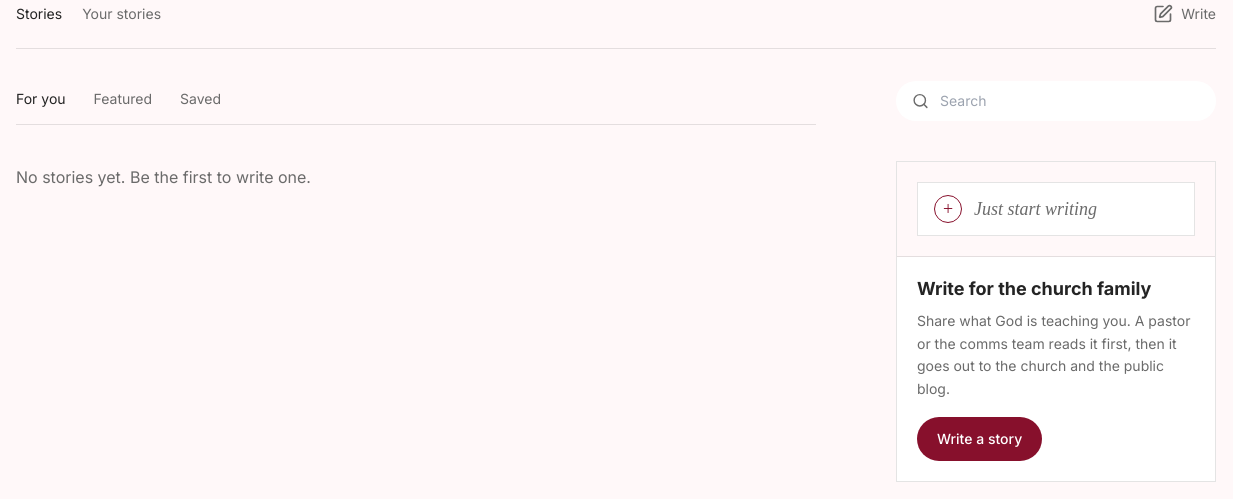
the stories feed › says why a tab is empty
Click the tab "Saved" at (201, 103), box 180,81 -> 221,125
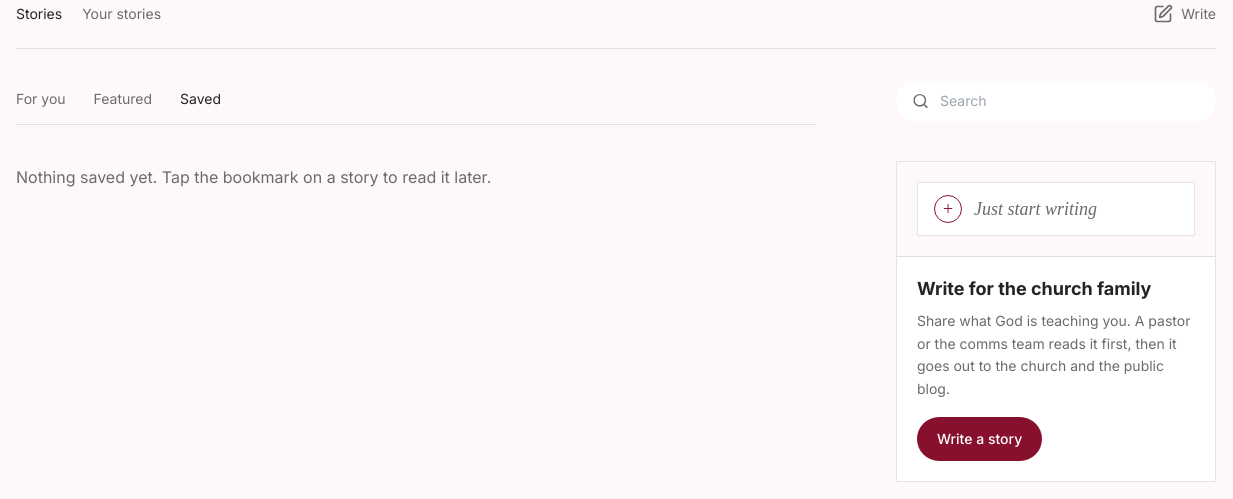
Expected: the text "Nothing saved yet" is shown, 16,167 -> 491,187
